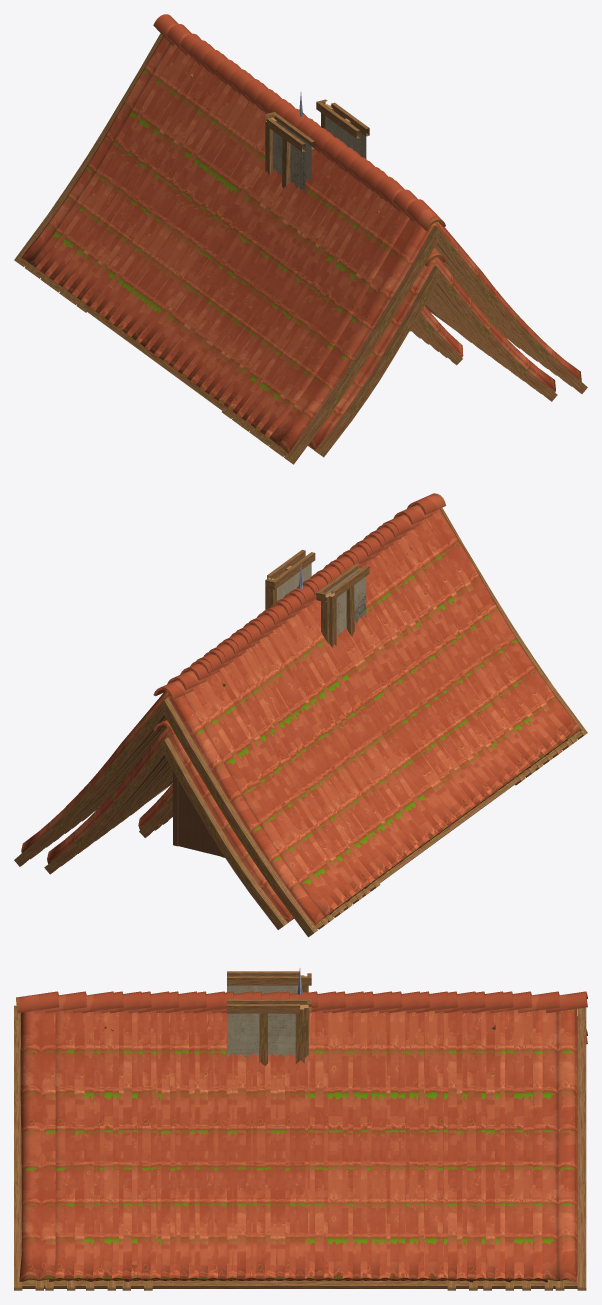
The model's file is village-kit-all.glb.
3 views of the same model, one above another, from view 1: azimuth 30°, elevation 25°; view 2: azimuth 150°, elevation 25°; view 3: azimuth 270°, elevation 25° (orthographic). The views are drawn at different scales.
Visible parts, largest first — view 1: Roof_RoundTiles_8x14, Roof_RoundTiles_8x12, Roof_RoundTiles_8x10, Roof_RoundTiles_6x14, Roof_RoundTiles_8x8, Overhang_Side_Plaster_Long_L, Overhang_Side_Plaster_Long_R, Roof_RoundTiles_4x8, Overhang_Side_UnevenBrick_Long_L; view 2: Roof_RoundTiles_8x14, Roof_RoundTiles_8x12, Roof_RoundTiles_8x10, Roof_RoundTiles_8x8, Roof_RoundTiles_6x14, Overhang_Side_Plaster_Long_L, Stair_Interior_SolidExtended, Overhang_Side_Plaster_Long_R, Roof_RoundTiles_4x8, Overhang_Side_Plaster_Short_L; view 3: Roof_RoundTiles_8x14, Roof_RoundTiles_8x12, Roof_RoundTiles_8x10, Roof_RoundTiles_8x8, Overhang_Side_Plaster_Long_R, Overhang_Side_Plaster_Long_L, Overhang_Side_Plaster_Short_R.
Boxes of the visible parts, <box> form: Roof_RoundTiles_8x14: <box>14,14,587,464</box>; Roof_RoundTiles_8x12: <box>30,24,565,449</box>; Roof_RoundTiles_8x10: <box>48,40,547,438</box>; Roof_RoundTiles_6x14: <box>308,248,557,457</box>; Roof_RoundTiles_8x8: <box>66,74,529,424</box>; Overhang_Side_Plaster_Long_L: <box>265,112,315,194</box>; Overhang_Side_Plaster_Long_R: <box>316,99,369,158</box>; Roof_RoundTiles_4x8: <box>411,305,463,365</box>; Overhang_Side_UnevenBrick_Long_L: <box>273,133,305,194</box>; Roof_RoundTiles_8x14: <box>14,493,587,937</box>; Roof_RoundTiles_8x12: <box>36,505,572,922</box>; Roof_RoundTiles_8x10: <box>54,523,553,910</box>; Roof_RoundTiles_8x8: <box>72,547,535,896</box>; Roof_RoundTiles_6x14: <box>44,720,293,929</box>; Overhang_Side_Plaster_Long_L: <box>316,563,369,647</box>; Stair_Interior_SolidExtended: <box>173,771,224,857</box>; Overhang_Side_Plaster_Long_R: <box>265,549,315,609</box>; Roof_RoundTiles_4x8: <box>138,783,172,837</box>; Overhang_Side_Plaster_Short_L: <box>318,576,352,635</box>; Roof_RoundTiles_8x14: <box>14,991,587,1290</box>; Roof_RoundTiles_8x12: <box>45,991,559,1290</box>; Roof_RoundTiles_8x10: <box>82,991,513,1290</box>; Roof_RoundTiles_8x8: <box>122,1010,477,1290</box>; Overhang_Side_Plaster_Long_R: <box>227,999,311,1065</box>; Overhang_Side_Plaster_Long_L: <box>227,971,311,993</box>; Overhang_Side_Plaster_Short_R: <box>263,999,310,1056</box>.
Size of the model in its own units: 9.95 by 8.91 by 15.71.
11 materials, 10 textured.
